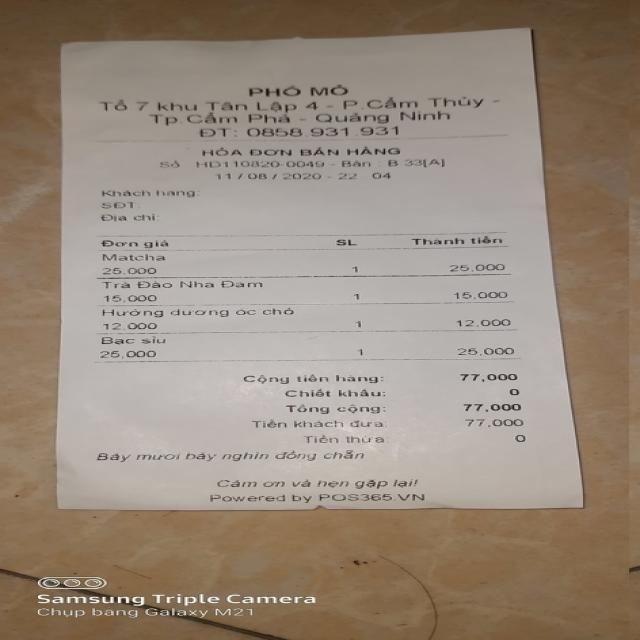Date: (214, 169, 319, 181)
Store_Name: (245, 85, 355, 99)
amount_number: (460, 398, 527, 414)
label_total: (280, 401, 386, 416)
